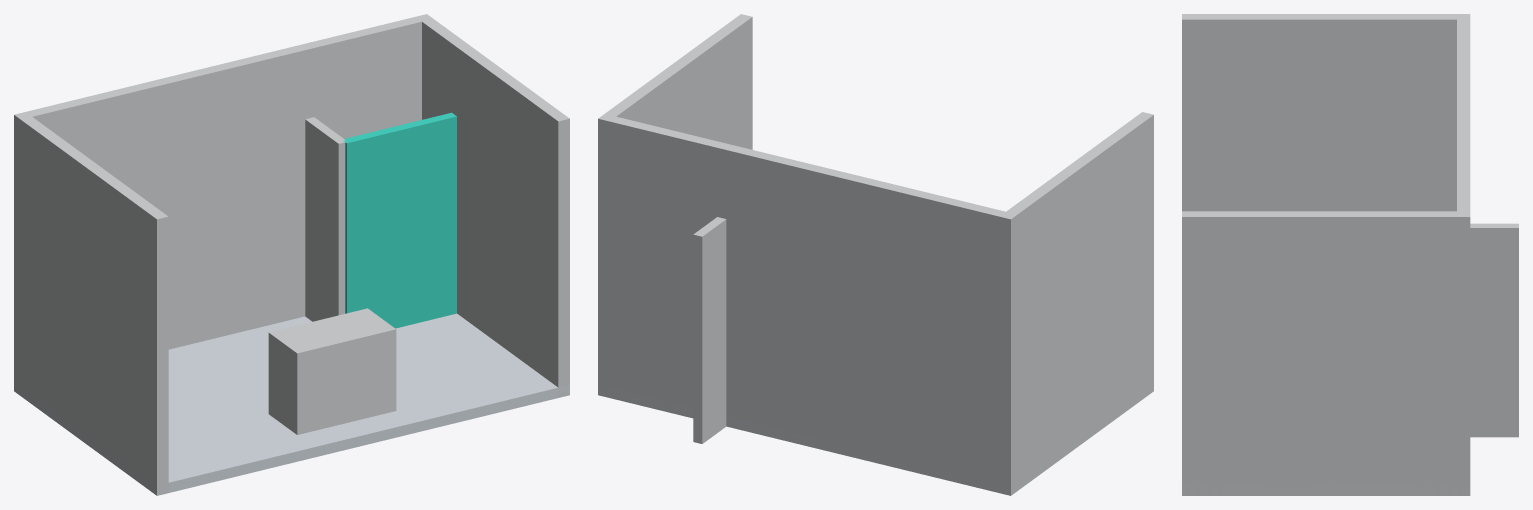
3 renders of one model, left to right at view 1: azimuth 30°, elevation 25°; view 2: azimuth 150°, elevation 25°; view 3: azimuth 270°, elevation 25°, orthographic.
Parts seen in each view (by area): view 1: Exhibition Booth Concept; view 2: Exhibition Booth Concept; view 3: Exhibition Booth Concept.
Part boxes in pixels (box(x1,y1,x2,y2)): Exhibition Booth Concept: box(14, 14, 569, 495); Exhibition Booth Concept: box(598, 14, 1153, 495); Exhibition Booth Concept: box(1182, 14, 1518, 495).
Bounding box in the file's own units: 5 × 3.2 × 3.51.
